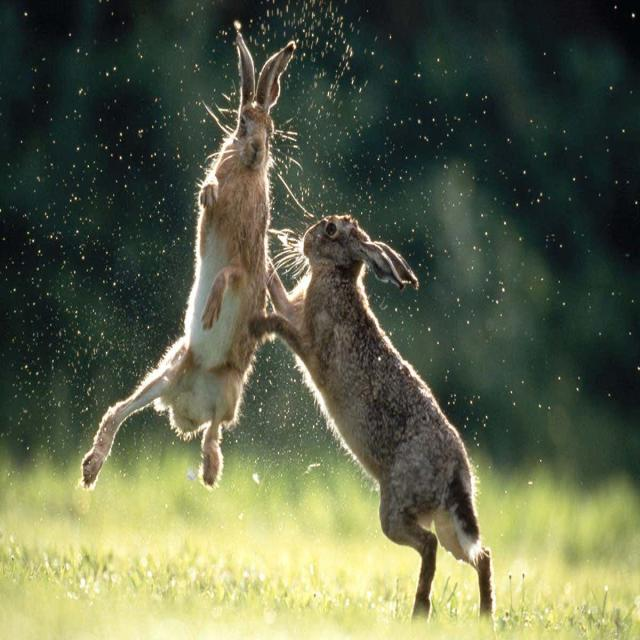Hare: (260, 191, 502, 627), (78, 22, 300, 490)
